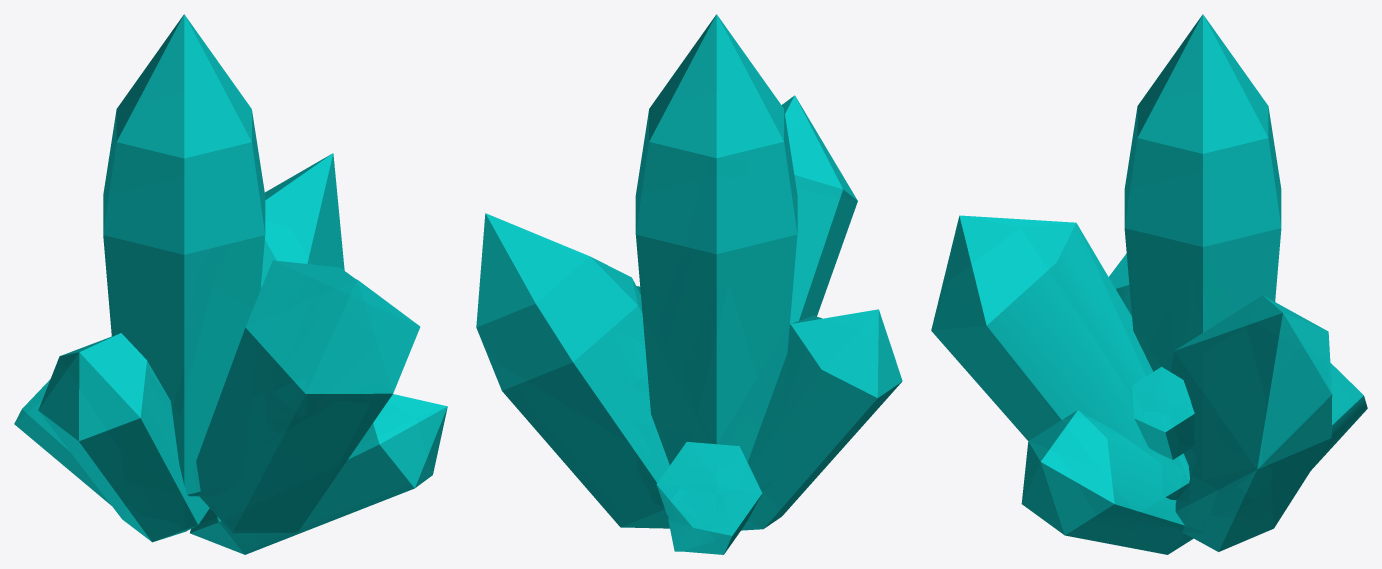
The model's file is kristal1.fbx.
The picture shows the model from 3 angles, left to right: view 1: azimuth 30°, elevation 25°; view 2: azimuth 150°, elevation 25°; view 3: azimuth 270°, elevation 25°; orthographic projection. The views are drawn at different scales.
Visible parts, largest first — view 1: pCone33; view 2: pCone33; view 3: pCone33.
Boxes of the visible parts, x1,y1,x2,y2 form: pCone33: [14, 14, 447, 554]; pCone33: [476, 14, 902, 554]; pCone33: [931, 14, 1367, 554].
Bounding box in the file's own units: 4.28 × 6.27 × 4.82.
